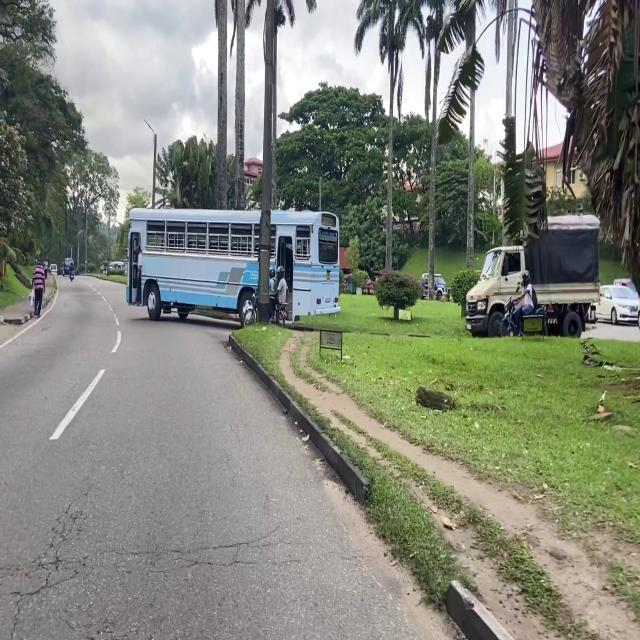bus: (126, 209, 339, 321)
car: (596, 284, 640, 325)
motorcycle: (501, 297, 546, 337), (241, 292, 259, 328), (259, 303, 286, 327), (69, 271, 74, 281)
person: (513, 270, 536, 335), (270, 265, 289, 320), (33, 262, 45, 317), (135, 243, 142, 303), (269, 267, 275, 293), (42, 261, 49, 279), (68, 262, 74, 273)
truck: (465, 215, 599, 337), (420, 274, 449, 300)
van: (63, 258, 73, 276), (50, 264, 57, 276)
